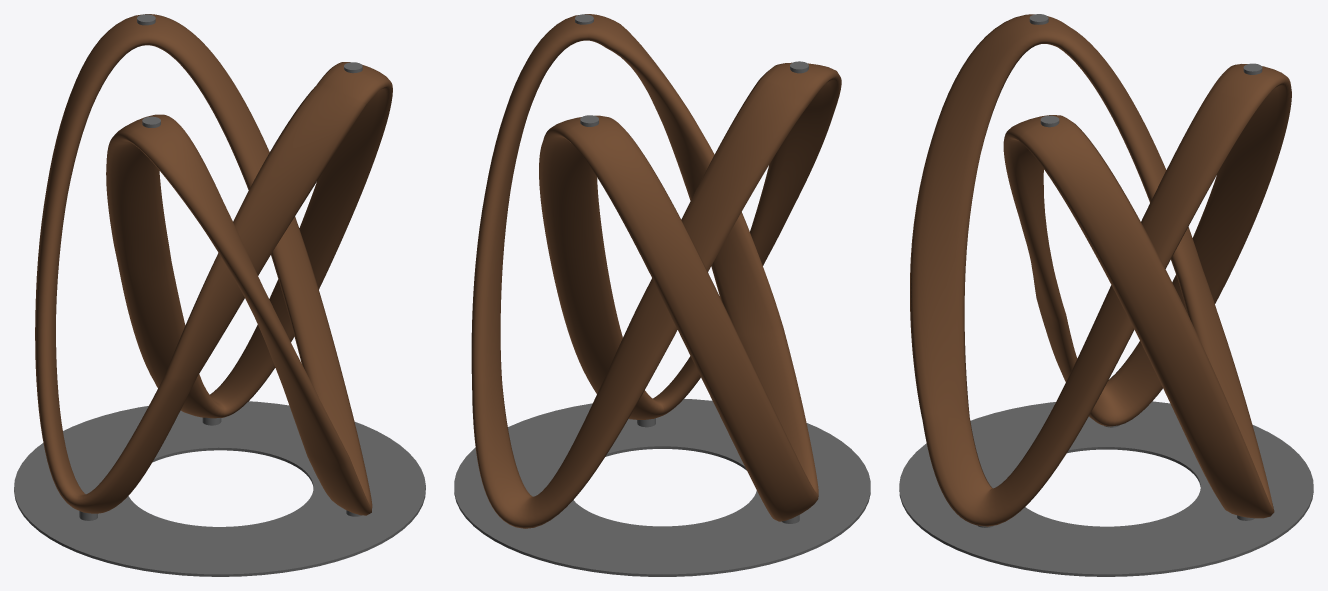
The model's file is ester_table_leg.glb.
3 renders of one model, left to right at view 1: azimuth 30°, elevation 25°; view 2: azimuth 150°, elevation 25°; view 3: azimuth 270°, elevation 25°, orthographic.
Visible parts, largest first — view 1: Tube003; view 2: Tube003; view 3: Tube003.
Boxes of the visible parts, bbox=[...] form: Tube003: bbox=[14, 14, 425, 576]; Tube003: bbox=[454, 14, 870, 576]; Tube003: bbox=[899, 14, 1313, 576].
Bounding box in the file's own units: 65.99 × 75 × 65.99.
